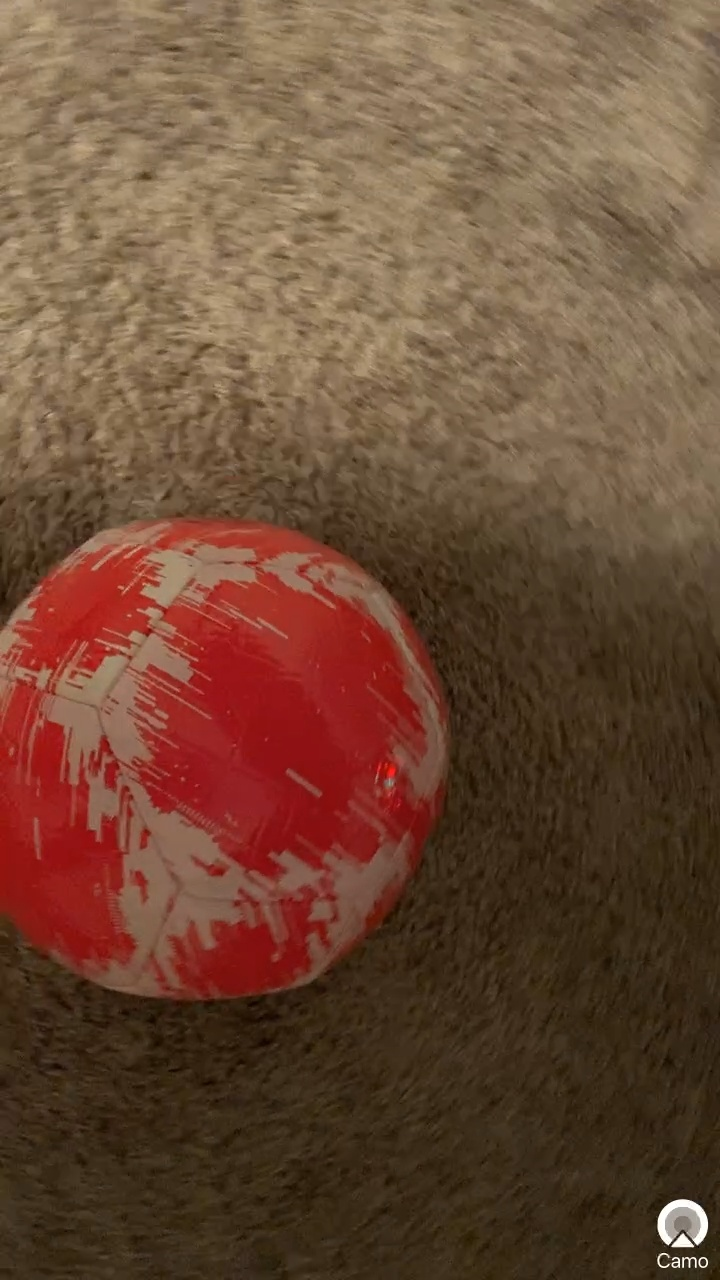Soccer_Ball: (7, 492, 462, 1033)
